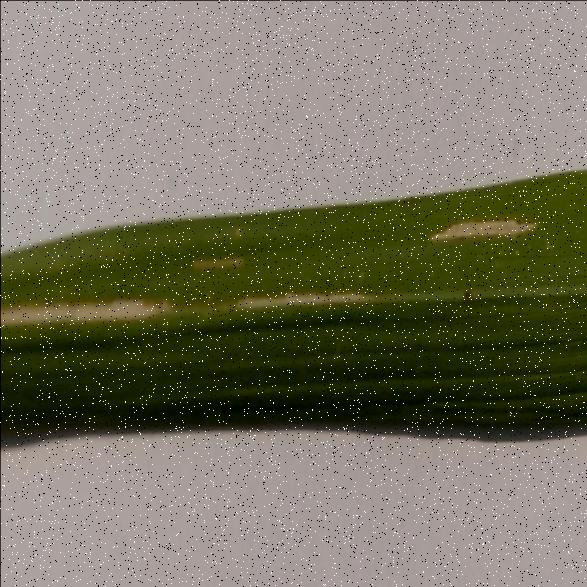Bacteria_Leaf_Blight: (1, 283, 397, 327), (425, 198, 553, 273)
